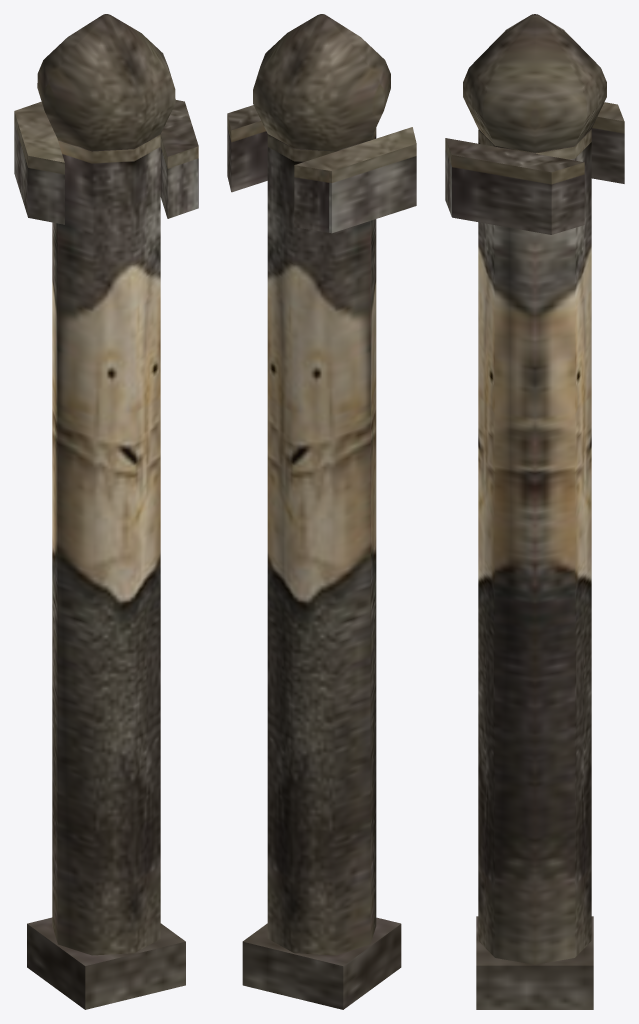
The model's file is Kallbotti.glb.
3 views of the same model, side by side, from view 1: azimuth 30°, elevation 25°; view 2: azimuth 150°, elevation 25°; view 3: azimuth 270°, elevation 25° (orthographic).
Visible parts, largest first — view 1: Cylinder, Cube; view 2: Cylinder, Cube; view 3: Cylinder, Cube.
Part boxes in pixels (bbox=[...]): Cylinder: bbox=[14, 14, 198, 955]; Cube: bbox=[27, 917, 185, 1009]; Cylinder: bbox=[227, 14, 416, 955]; Cube: bbox=[242, 917, 401, 1009]; Cylinder: bbox=[445, 14, 624, 964]; Cube: bbox=[476, 916, 593, 1009].
Bounding box in the file's own units: 0.5648 × 3 × 0.5016.
1 material, 1 textured.
